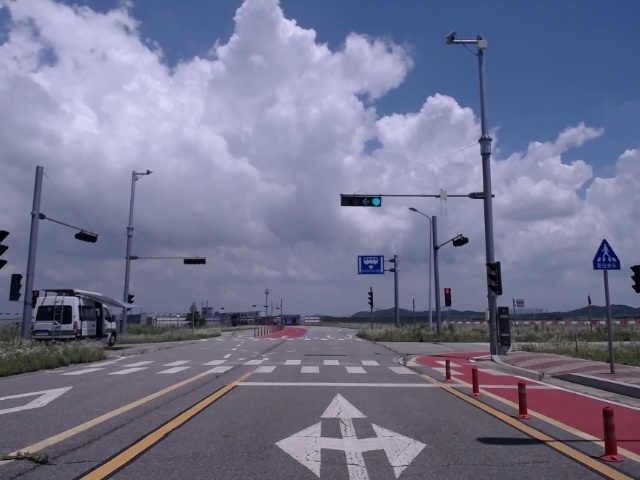all_green_4: (339, 193, 383, 208)
